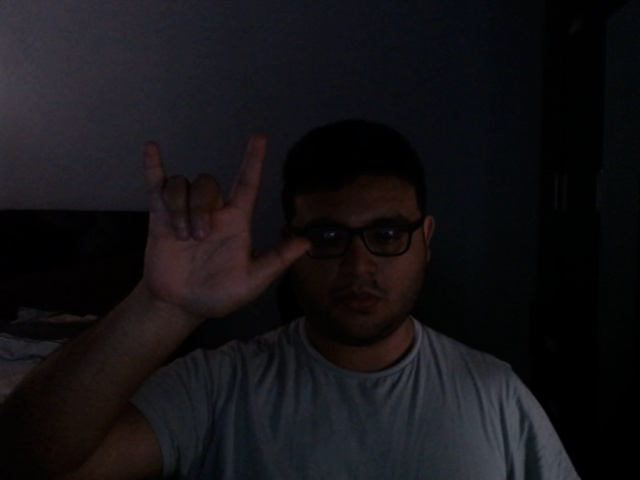I love you: (129, 132, 313, 332)
